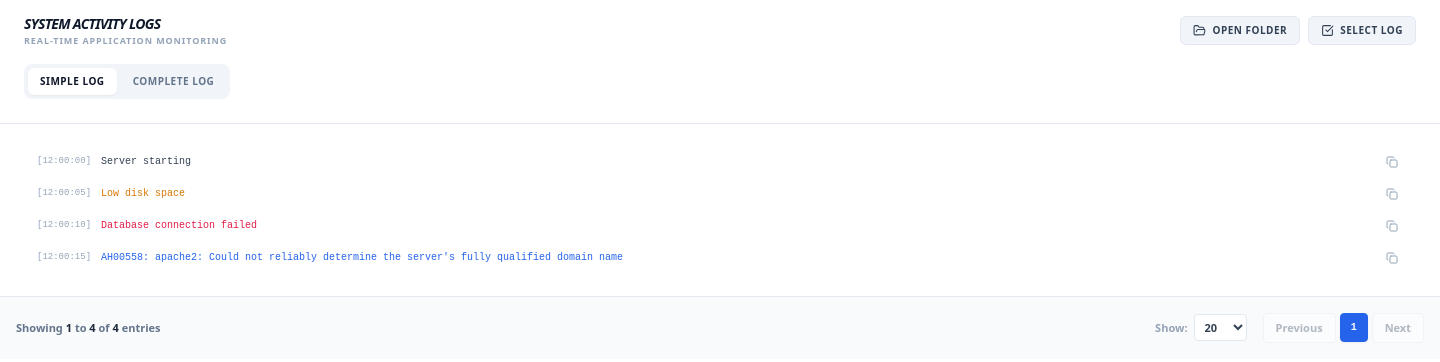
Test: LogViewer Component › Gmail-style Selection Mode, Shift+Click, Context Menu, and Batch Copy › supports Shift+Click range selection like Gmail
// Enter selection mode
Click the button "Select Log": click(1362, 31) [1308,16,1416,45]
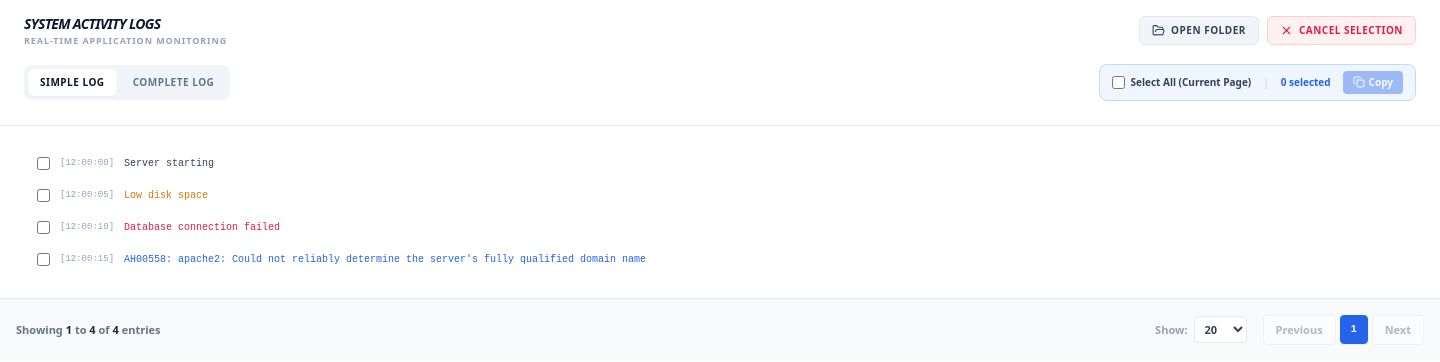
// Click first item checkbox (index 1)
Click the 2nd checkbox: click(44, 164) [37,157,50,170]
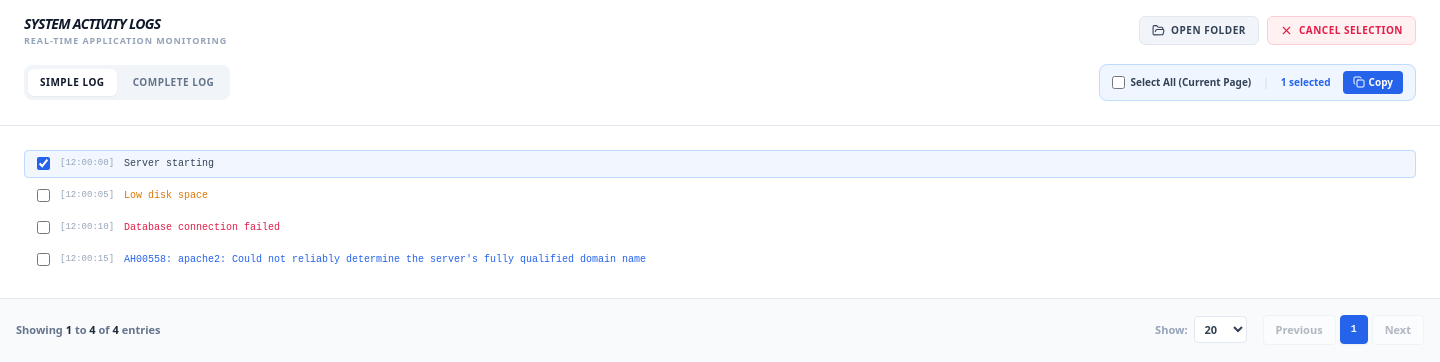
expect the text "1 selected" is shown: met, box [1281,74,1331,90]
// Shift+Click fourth item checkbox (index 4)
Click the 5th checkbox: click(44, 260) [37,253,50,266]
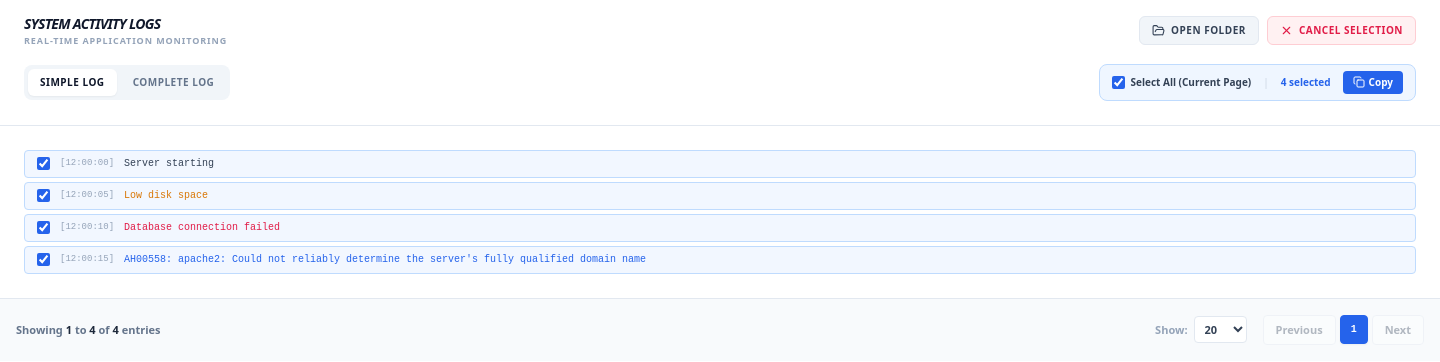
expect the text "4 selected" is shown: met, box [1281,74,1331,90]
